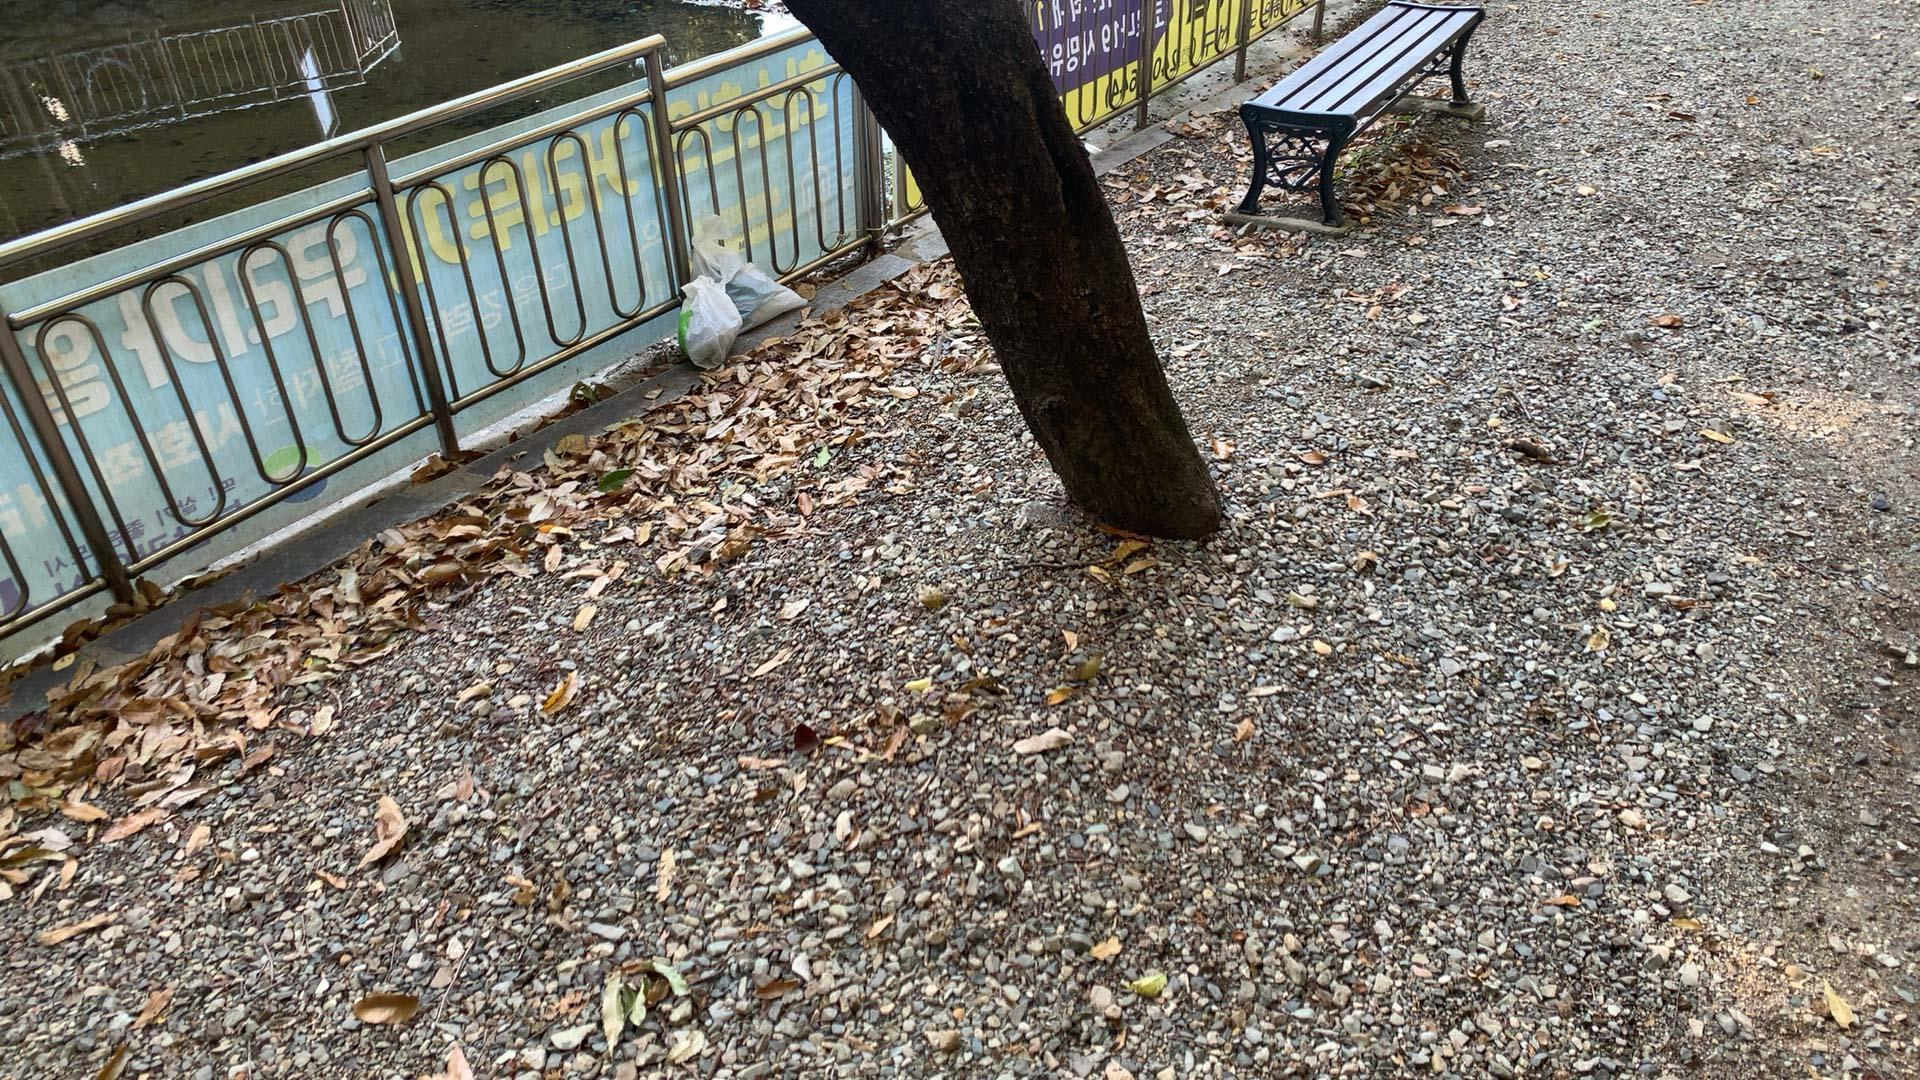white_bag: (680, 204, 818, 330), (673, 270, 742, 372)
